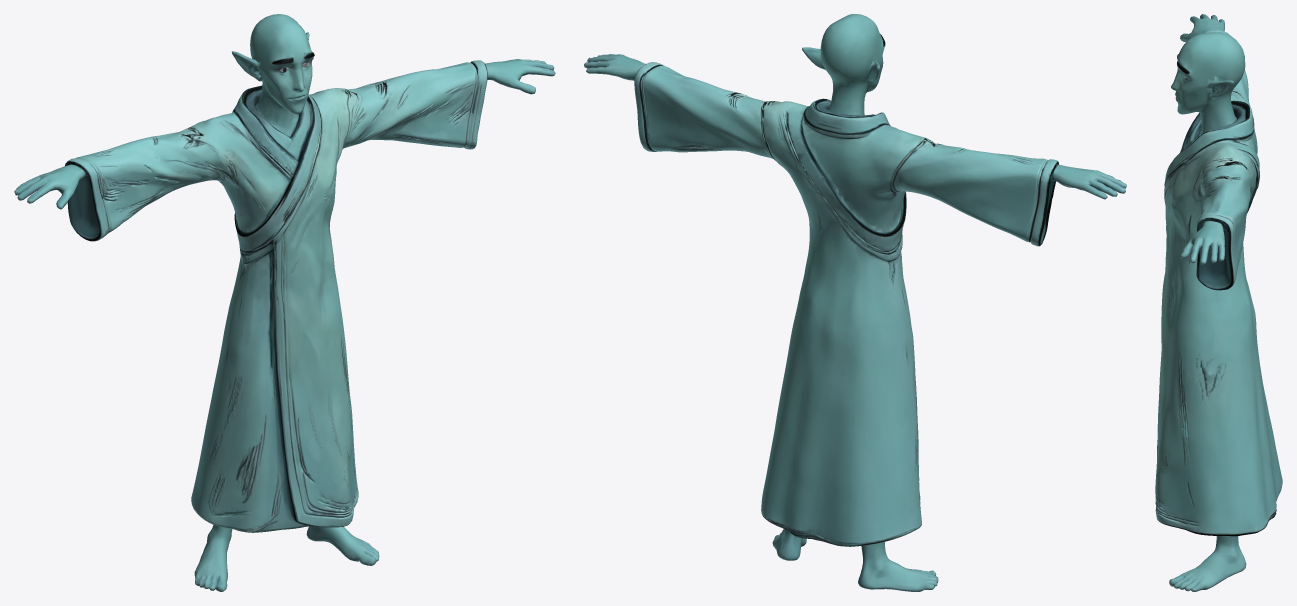
The model's file is lumen_townsperson.glb.
3 views of the same model, side by side, from view 1: azimuth 30°, elevation 25°; view 2: azimuth 150°, elevation 25°; view 3: azimuth 270°, elevation 25° (orthographic). The views are drawn at different scales.
Parts seen in each view (by area): view 1: lumen_townsperson; view 2: lumen_townsperson; view 3: lumen_townsperson.
Part boxes in pixels (box(x1,y1,x2,y2)): lumen_townsperson: box(14, 14, 555, 591); lumen_townsperson: box(584, 14, 1126, 591); lumen_townsperson: box(1155, 14, 1282, 591).
Size of the model in its own units: 1.89 by 1.85 by 0.4098.
1 material, 1 textured.
